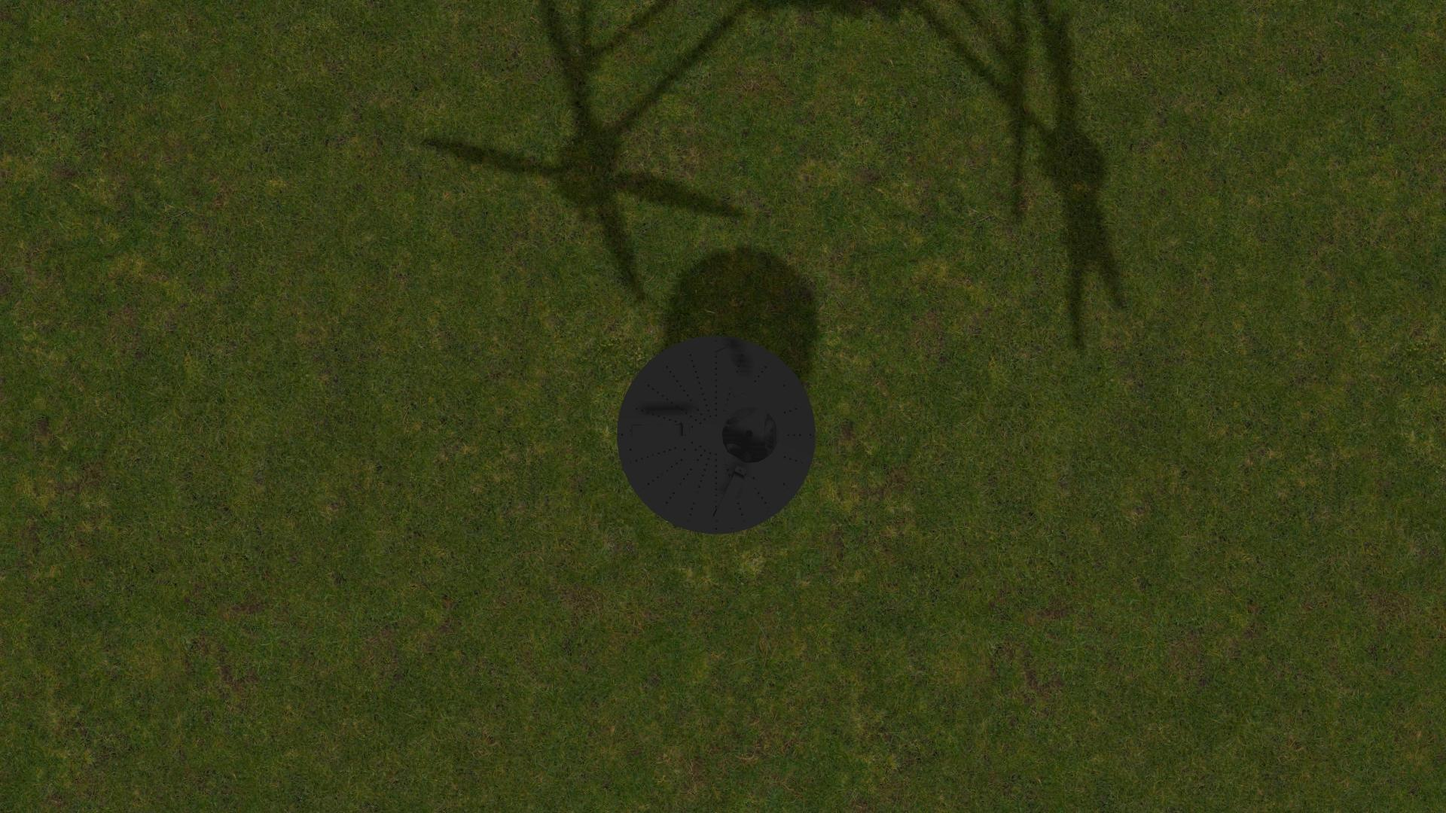alca: (710, 465, 747, 526), (713, 343, 749, 403), (626, 424, 690, 438)
armadilha: (617, 334, 816, 534)
